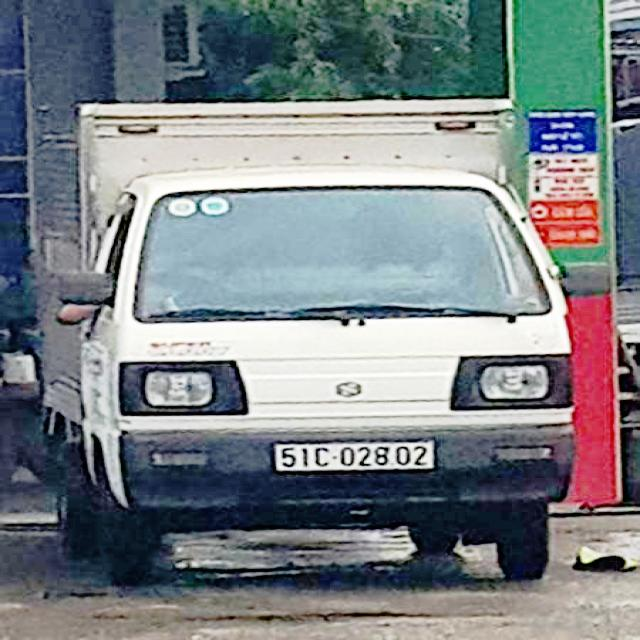license_plate: (279, 445, 434, 473)
